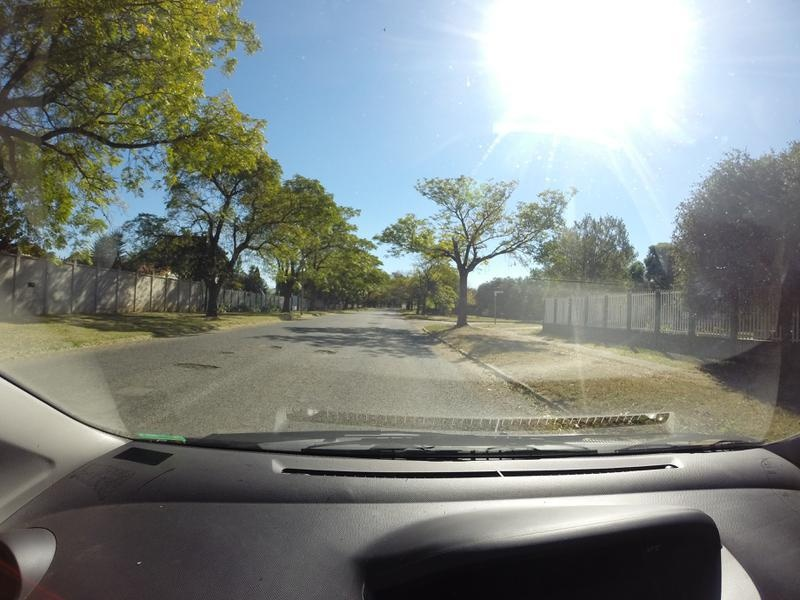pothole: (172, 359, 218, 370), (302, 347, 336, 360), (260, 342, 282, 358), (221, 349, 233, 354)
